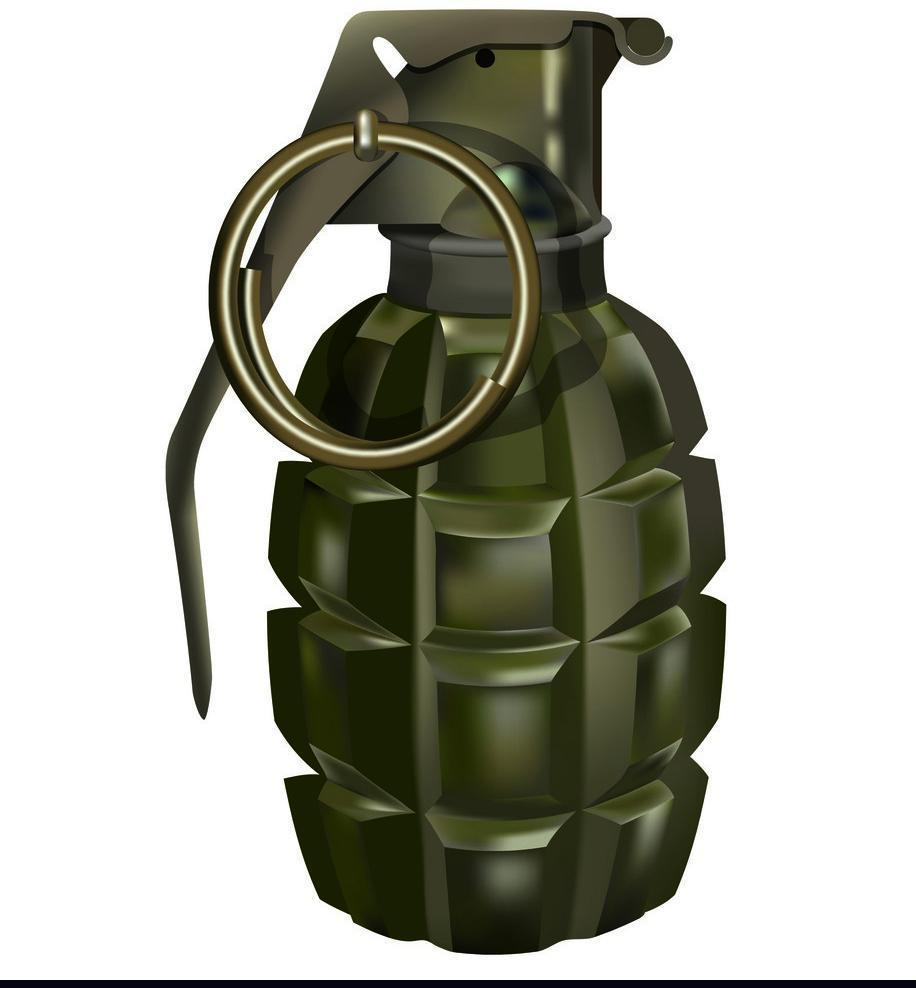Grenade: (165, 9, 727, 957)
